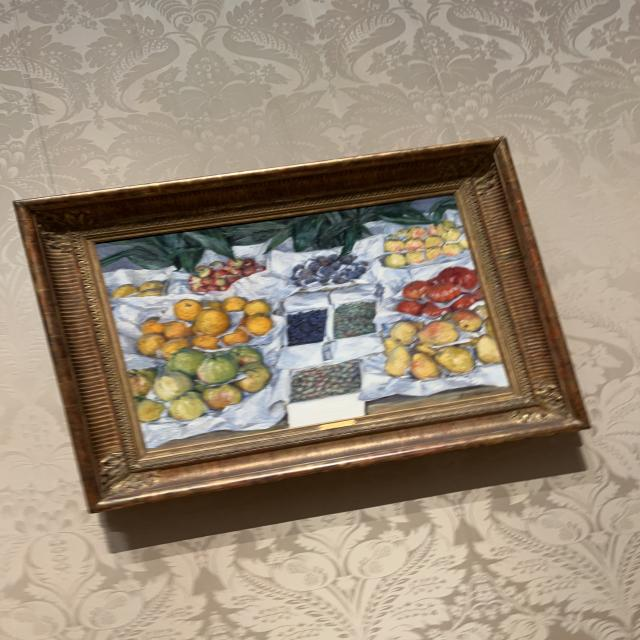fruits: (97, 198, 504, 446)
